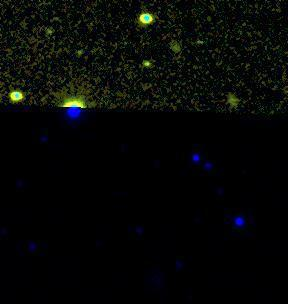star: (132, 52, 162, 82)
